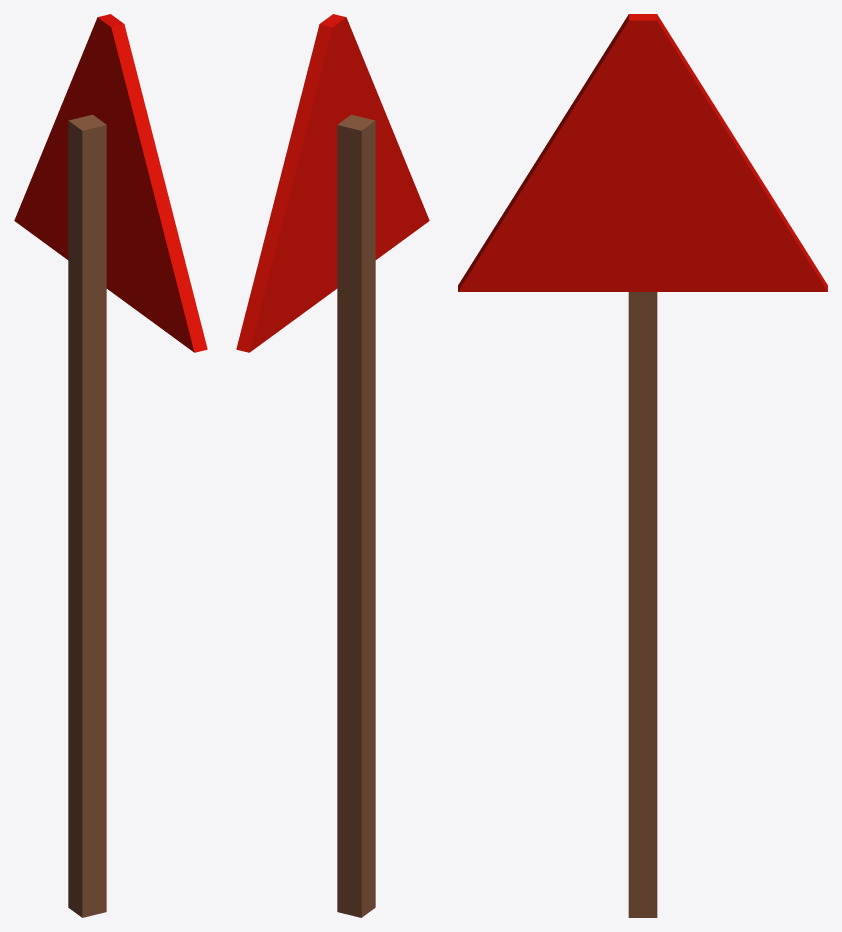
File: TrafficSign.fbx
3 views of the same model, side by side, from view 1: azimuth 30°, elevation 25°; view 2: azimuth 150°, elevation 25°; view 3: azimuth 270°, elevation 25° (orthographic). The views are drawn at different scales.
Parts seen in each view (by area): view 1: Cube; view 2: Cube; view 3: Cube.
Boxes of the visible parts, x1=… form: Cube: x1=14, y1=14, x2=207, y2=917; Cube: x1=236, y1=14, x2=429, y2=917; Cube: x1=458, y1=14, x2=827, y2=917.
Size of the model in its own units: 33.34 by 668 by 247.
